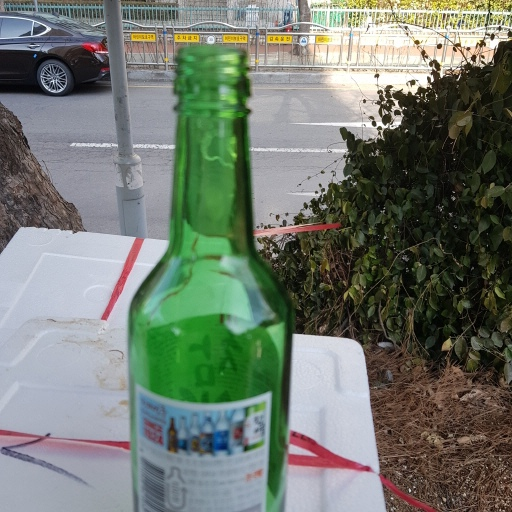Glass_0: (128, 44, 294, 512)
